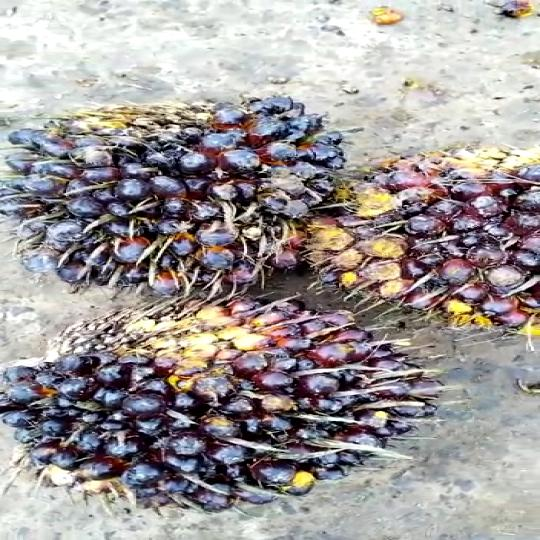mentah: (0, 289, 448, 518), (7, 94, 342, 290), (303, 133, 540, 346)
